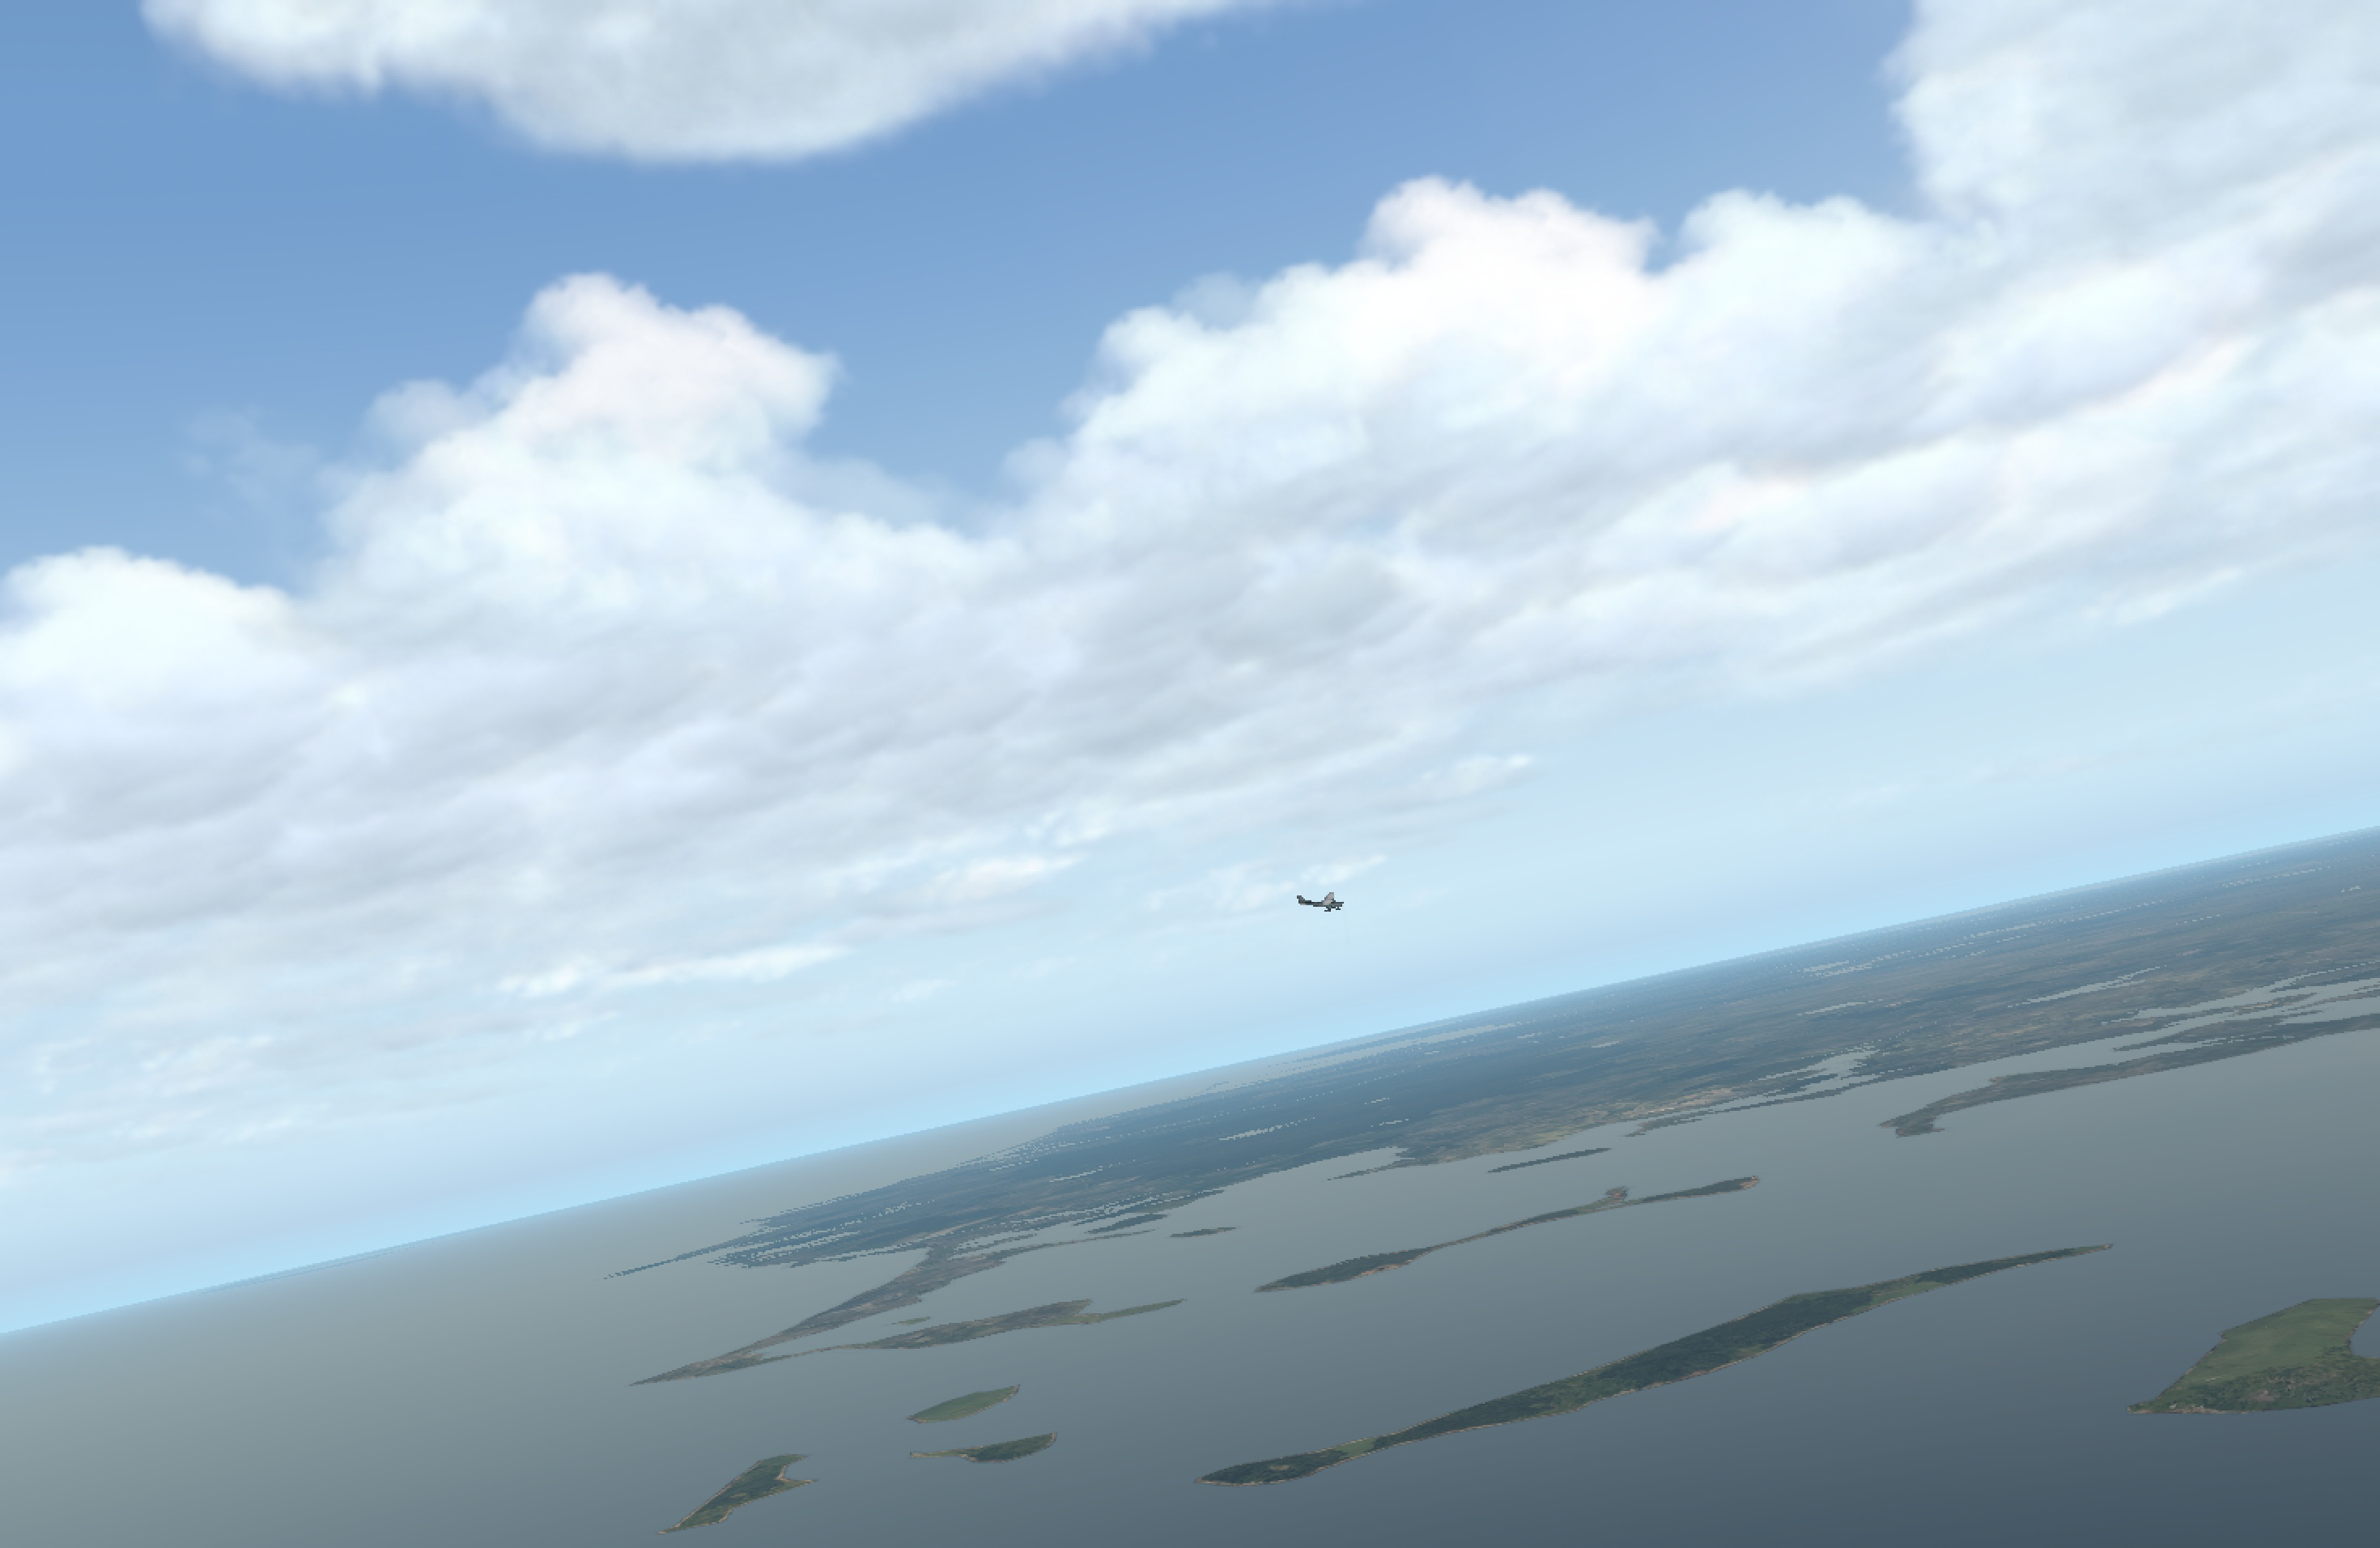aircraft: (1308, 894, 1353, 911)
